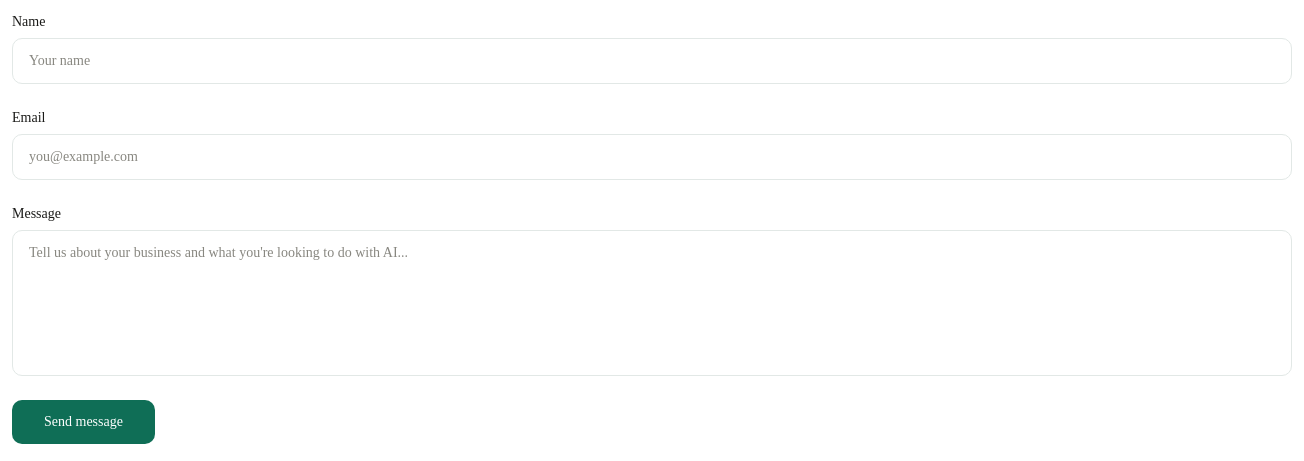
Scenario: ContactForm › disables the submit button and shows "Sending..." during submission
Type "Test User" into the field labelled "Name". click: (652, 61)
box: [12,38,1292,84]
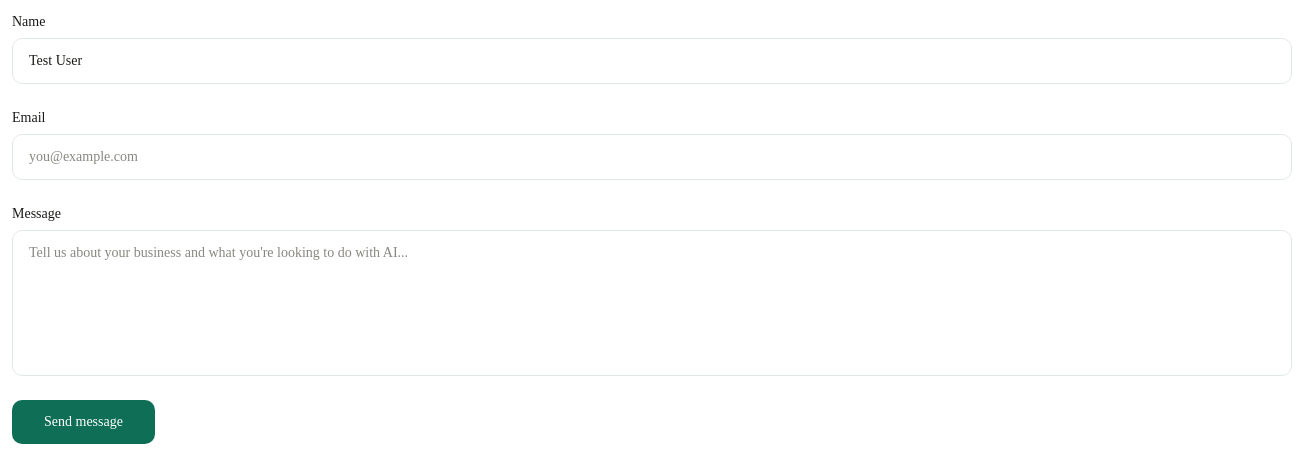
Type "test@example.com" into the field labelled "Email". click: (652, 157)
box: [12,134,1292,180]
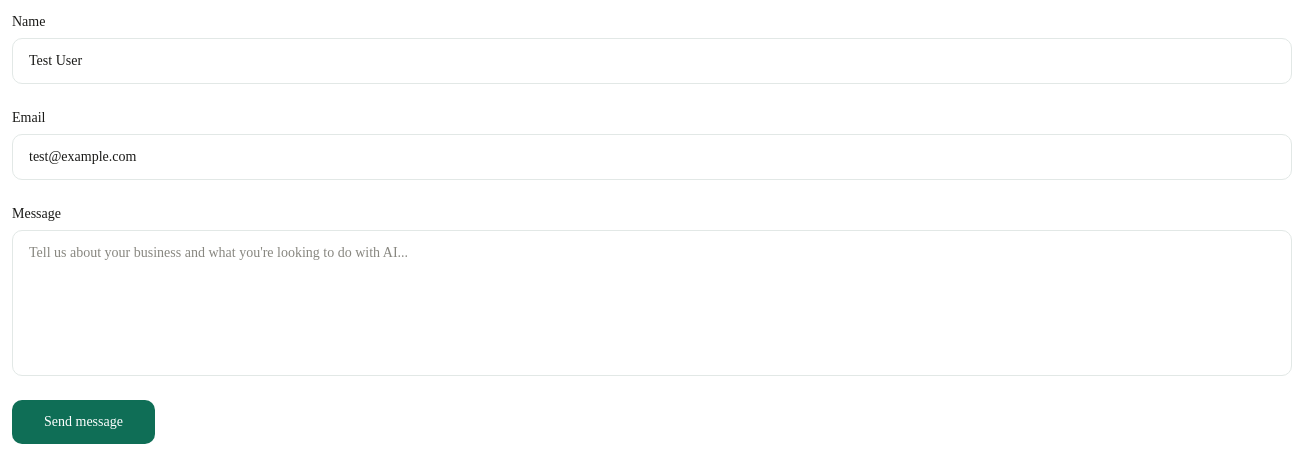
Replace the text in the text box labelled "Message" with "Hello there". click: (652, 303)
box: [12,230,1292,376]
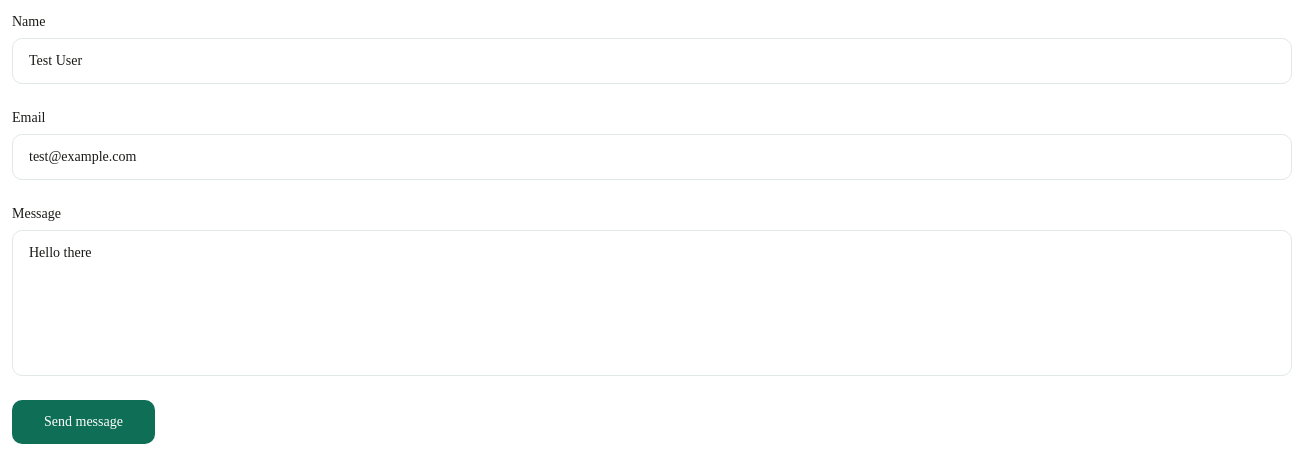
Click the button "Send message". click: (83, 422)
box: [12,400,155,444]
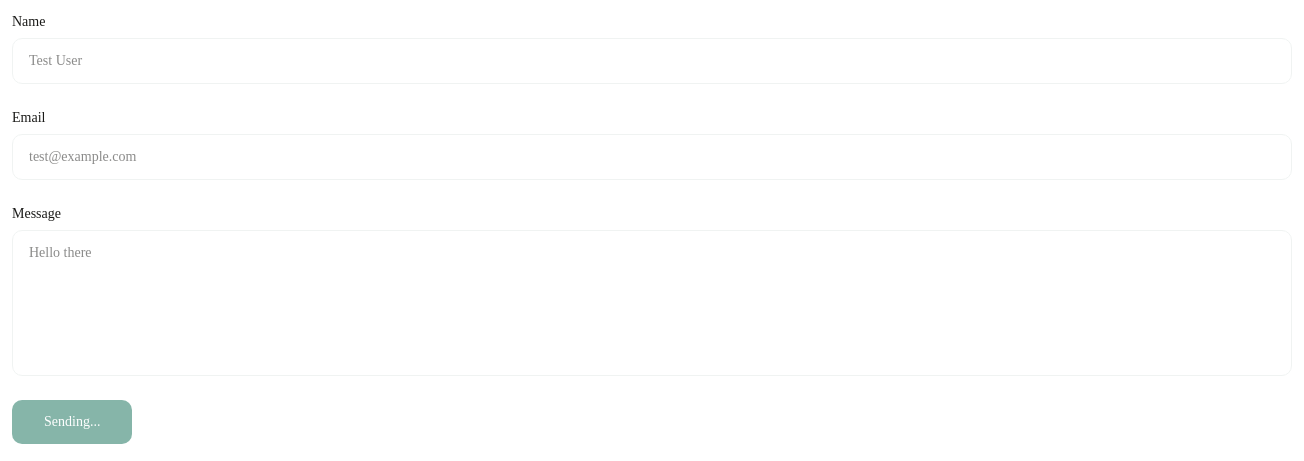
Now the button "Sending..." is disabled, box [12,400,132,444]
